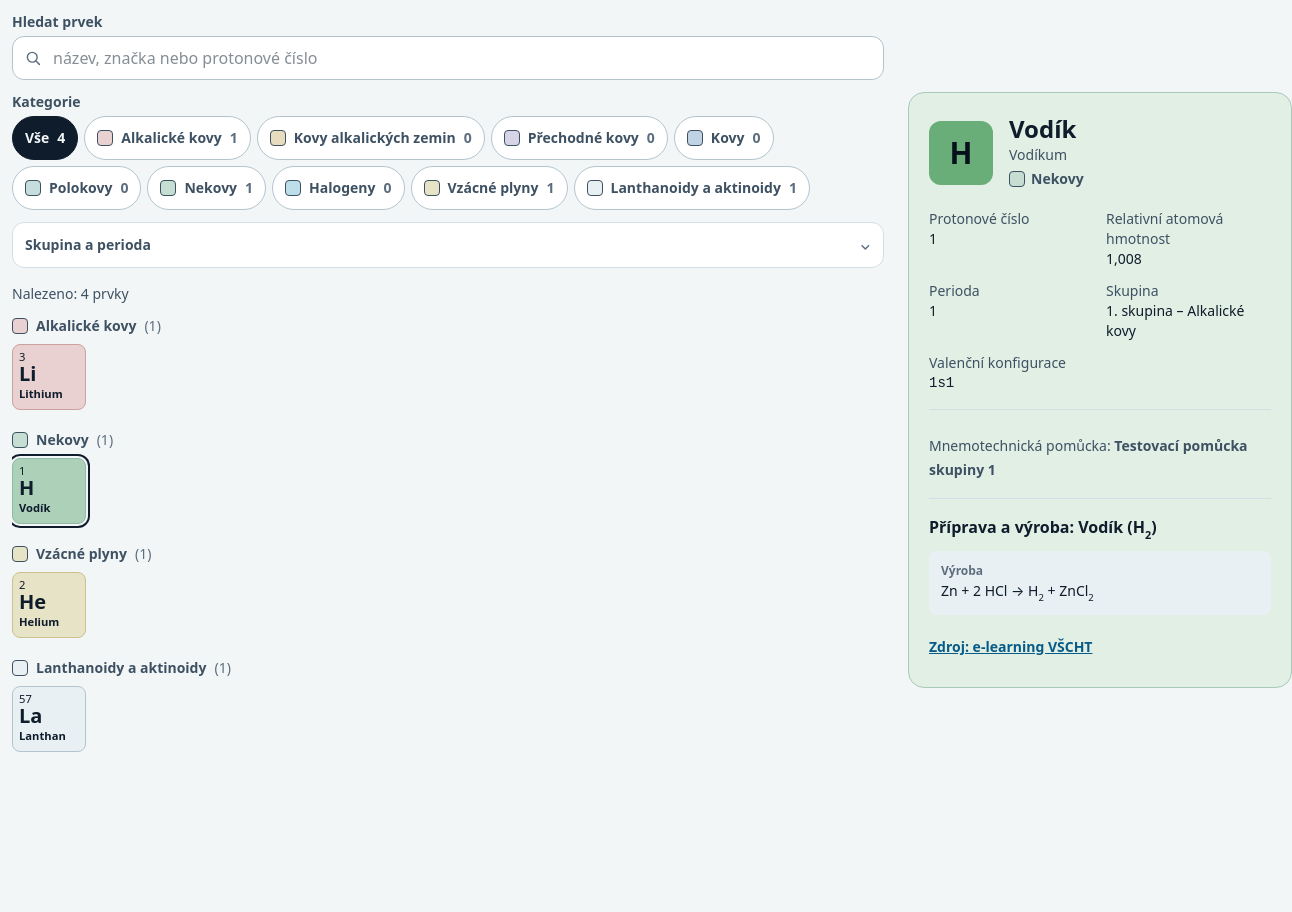
Test case: ElementBrowser › explains an empty result and clears the filters
In the search field labelled "Hledat prvek": (448, 58) [12,36,884,80], type "xyz"
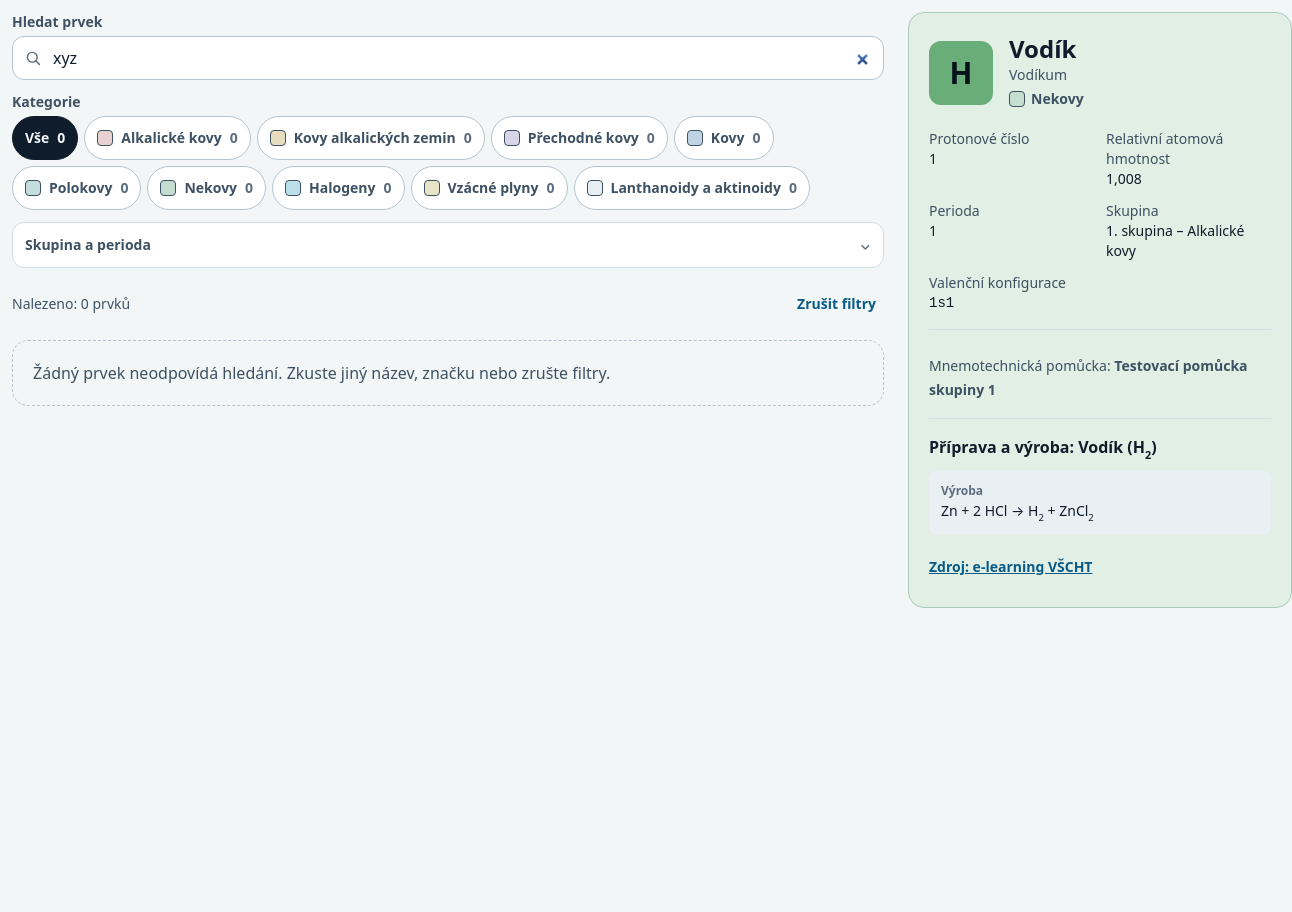
Expected: the text "Žádný prvek neodpovídá hledání" is shown, [33,362,610,384]
Click the button "Zrušit filtry": (836, 304) [789,284,884,324]
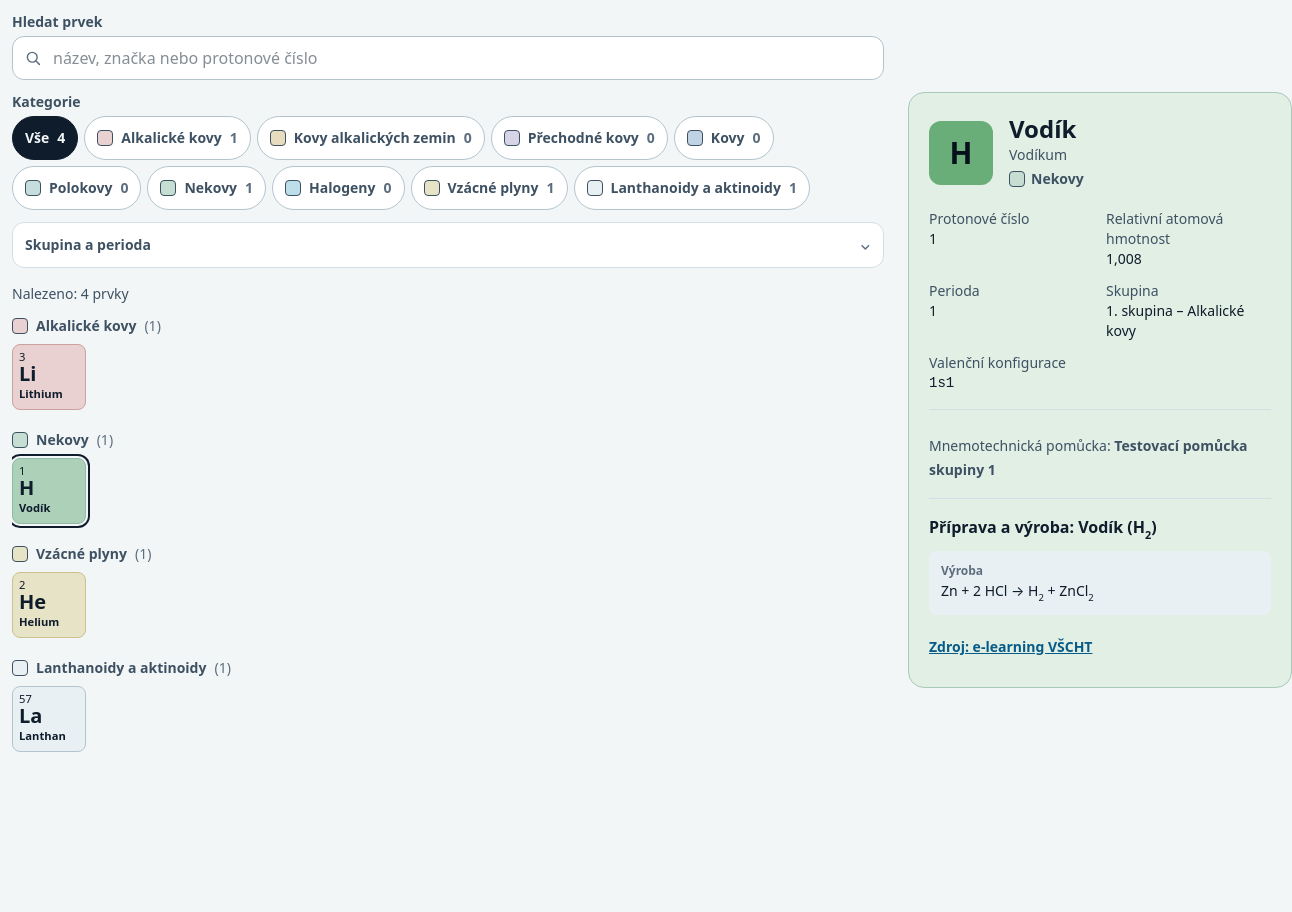
Expected: the button "Zrušit filtry" is gone
